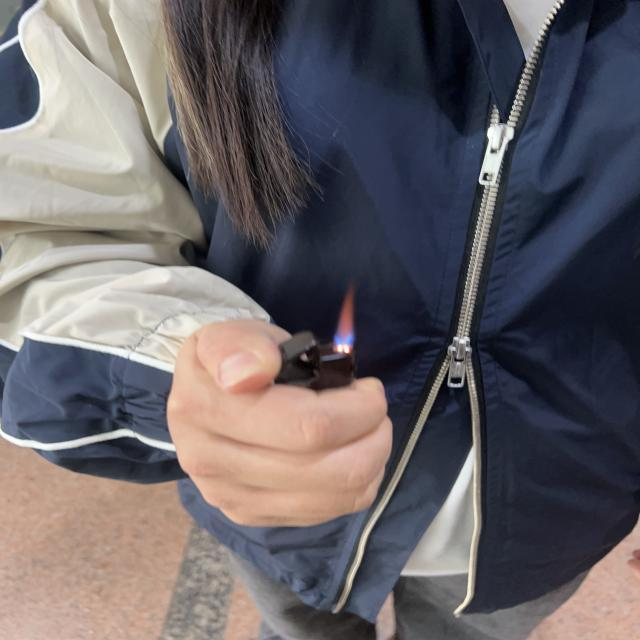fire: (336, 288, 358, 346)
